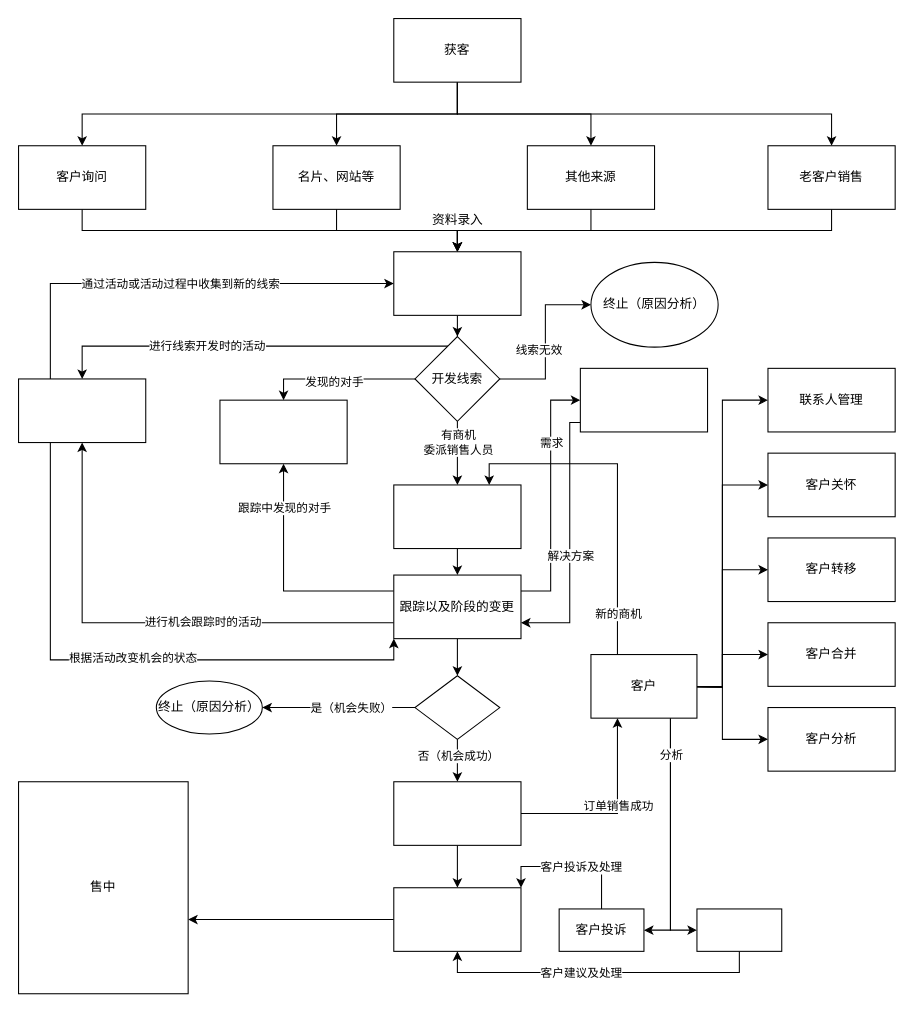
Some shapes in this 914 by 1012 pixel diagram are drawn without their labels. Each missing label, with the centre of its shape:
客户建议: the point at 739,929
客服: the point at 457,919
报价管理: the point at 643,399
机会是否关闭: the point at 457,707
活动跟踪: the point at 81,410
竞争对手: the point at 283,431
线索收集 （线索池）: the point at 457,283
销售机会: the point at 457,516
销售订单: the point at 457,813
